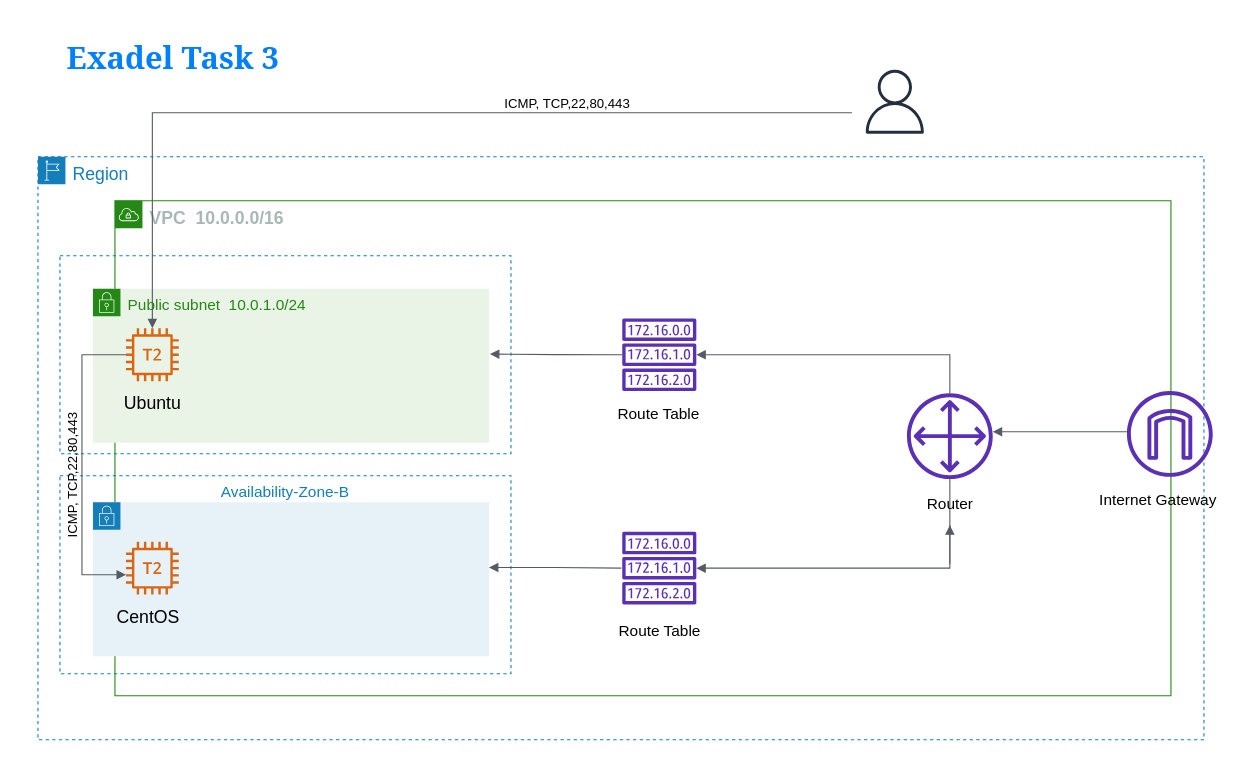
Some shapes in this 1235 by 759 pixel diagram are drawn without their labels. Each missing label, with the box of its shape:
Availability-Zone-A: (59, 255, 511, 454)
Private subnet 10.0.2.0/24: (92, 501, 489, 656)
